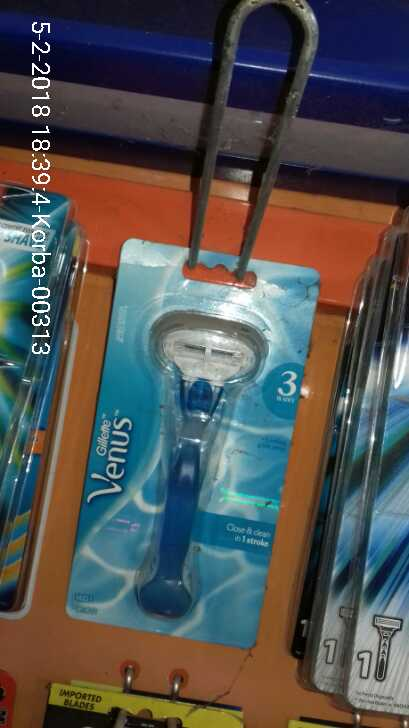venus: (94, 242, 278, 643)
